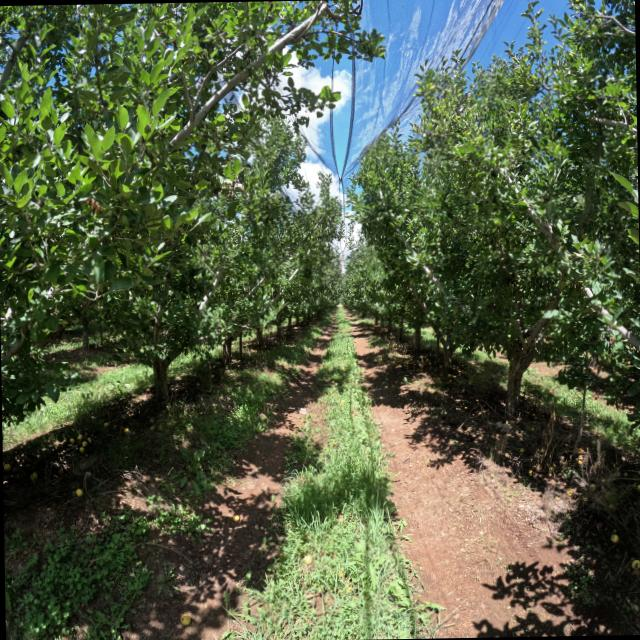-FireBlight-: (83, 192, 106, 219)
